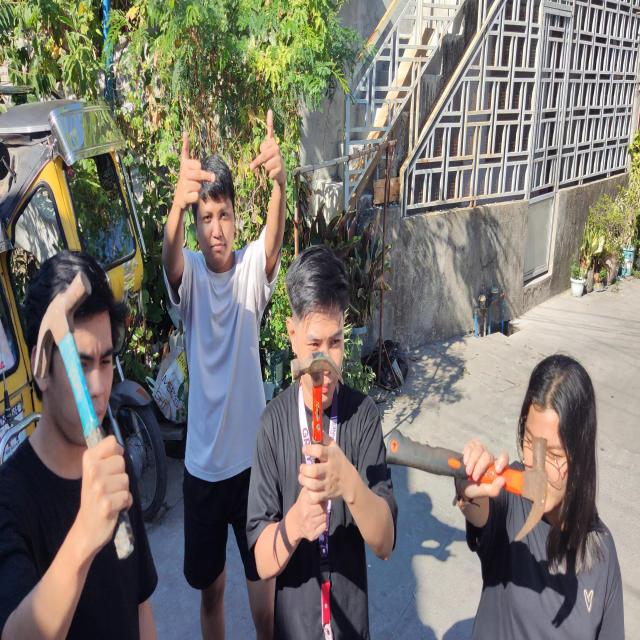hammer: (34, 271, 134, 560), (385, 428, 548, 540), (291, 352, 344, 464)
